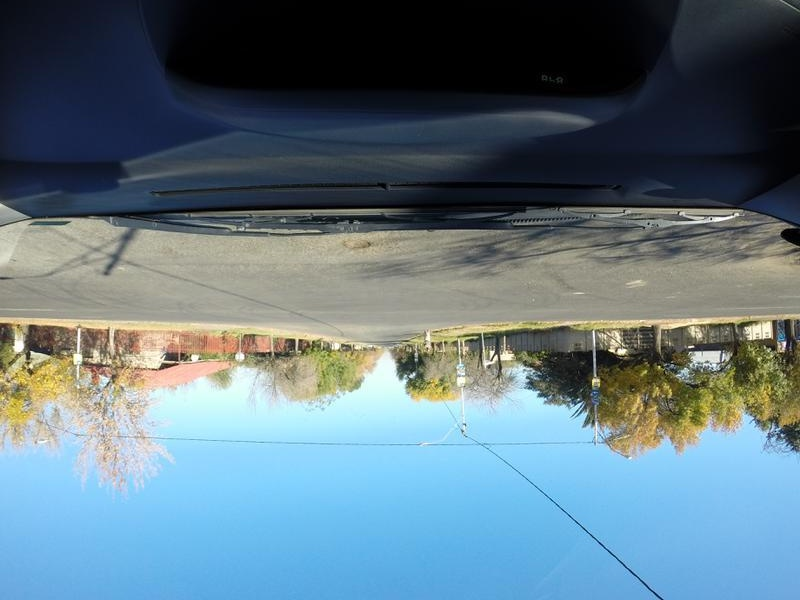pothole: (334, 235, 371, 255)
